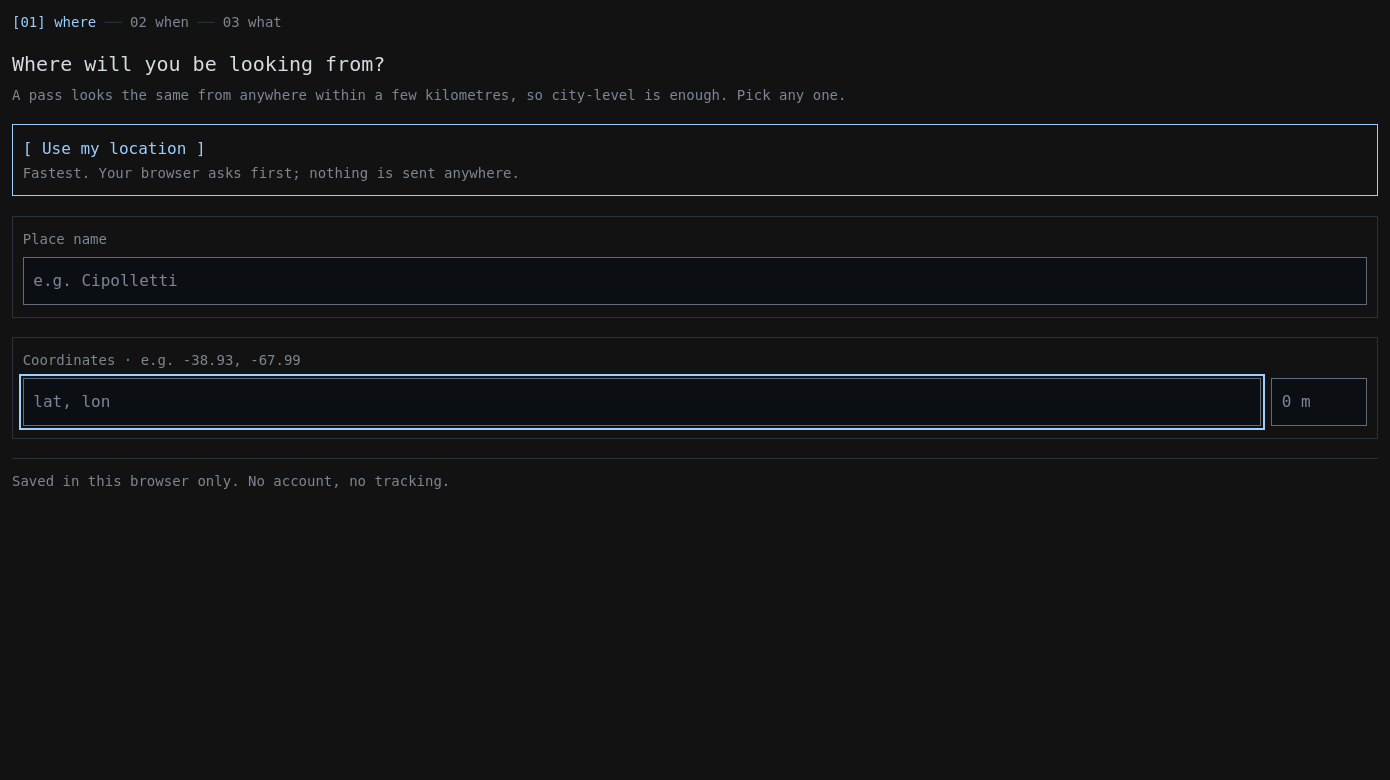
it: the phone’s first visit (FR-FIRST-4, D-513) › offers [ continue ] exactly while a typed pair is held, and it moves the step on
Expected: the button "continue" is not shown
Type "-38.93, -" into the field labelled "Coordinates · e.g. -38.93, -67.99" at (642, 402), box [23,378,1261,426]
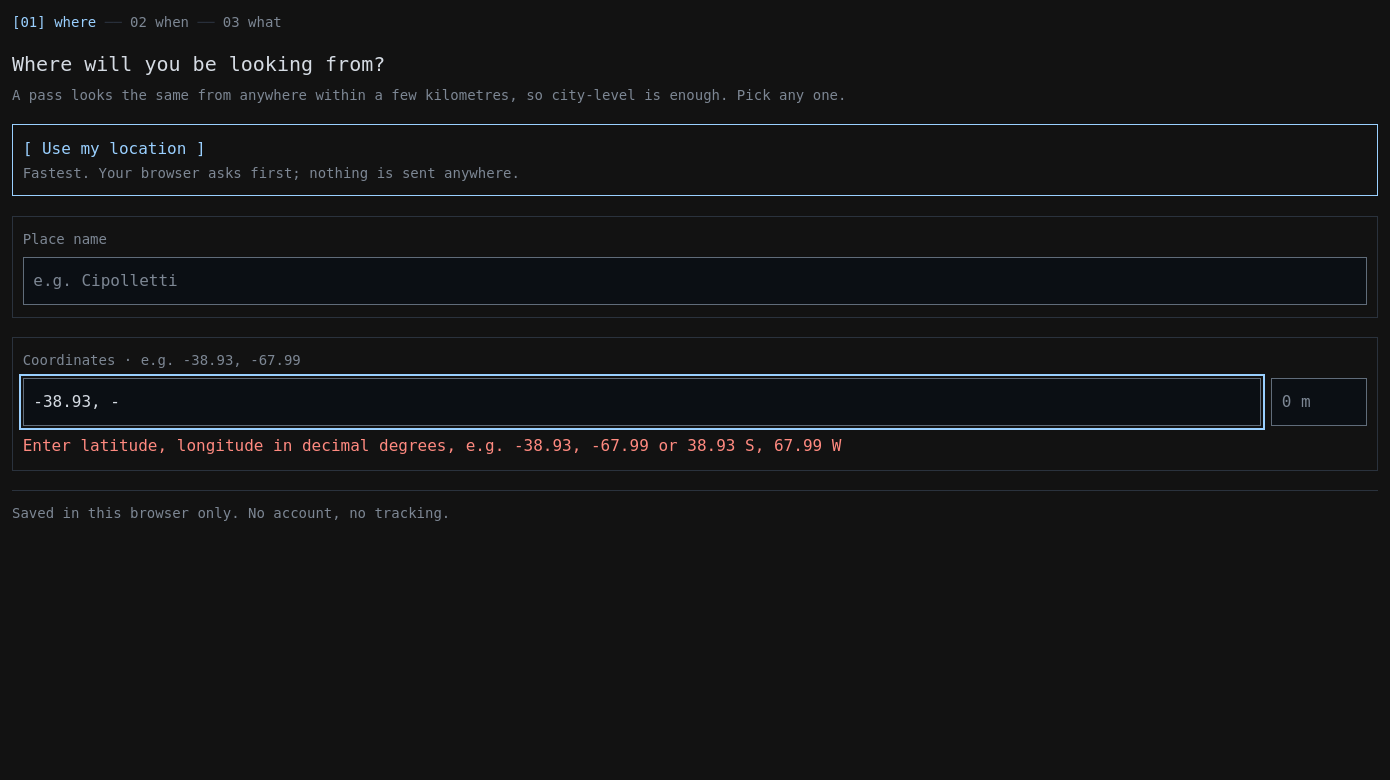
Expected: the button "continue" is not shown
Replace the text in the field labelled "Coordinates · e.g. -38.93, -67.99" with "-38.93, -67.99" at (642, 402), box [23,378,1261,426]
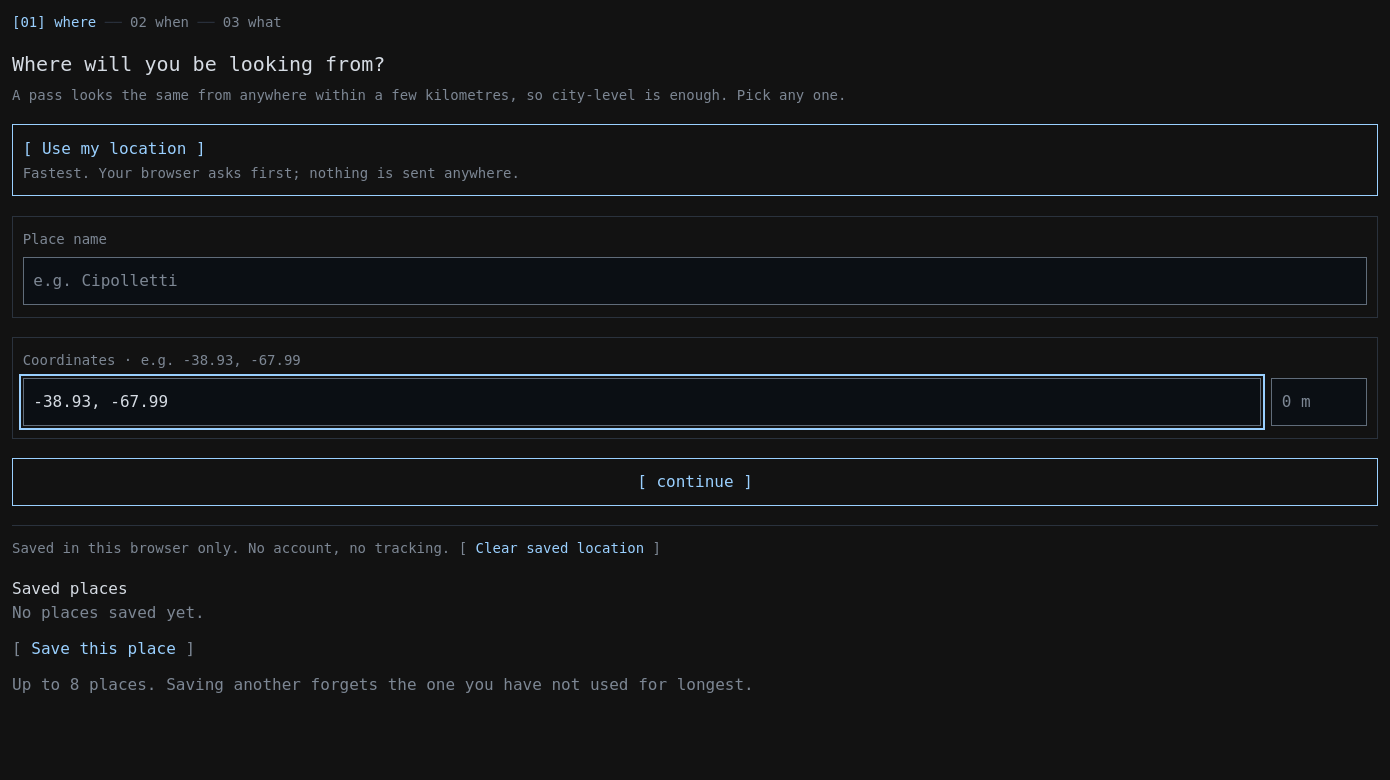
Now the button "continue" is shown, box [12,458,1378,506]
# An invalid pair drops the observer, and the control with it.
Replace the text in the field labelled "Coordinates · e.g. -38.93, -67.99" with "-38.93, -6x" at (642, 402), box [23,378,1261,426]
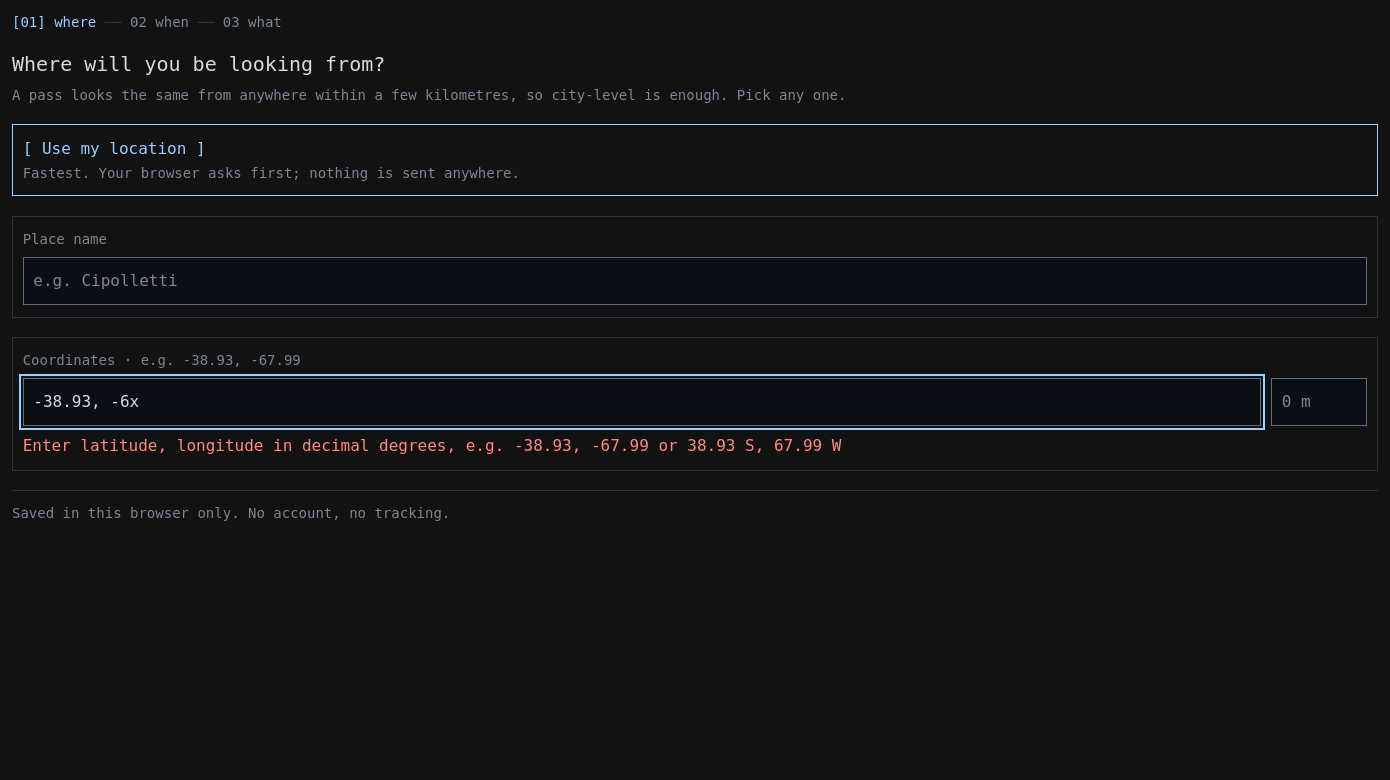
Now the button "continue" is gone
Replace the text in the field labelled "Coordinates · e.g. -38.93, -67.99" with "-38.93, -67.99" at (642, 402), box [23,378,1261,426]
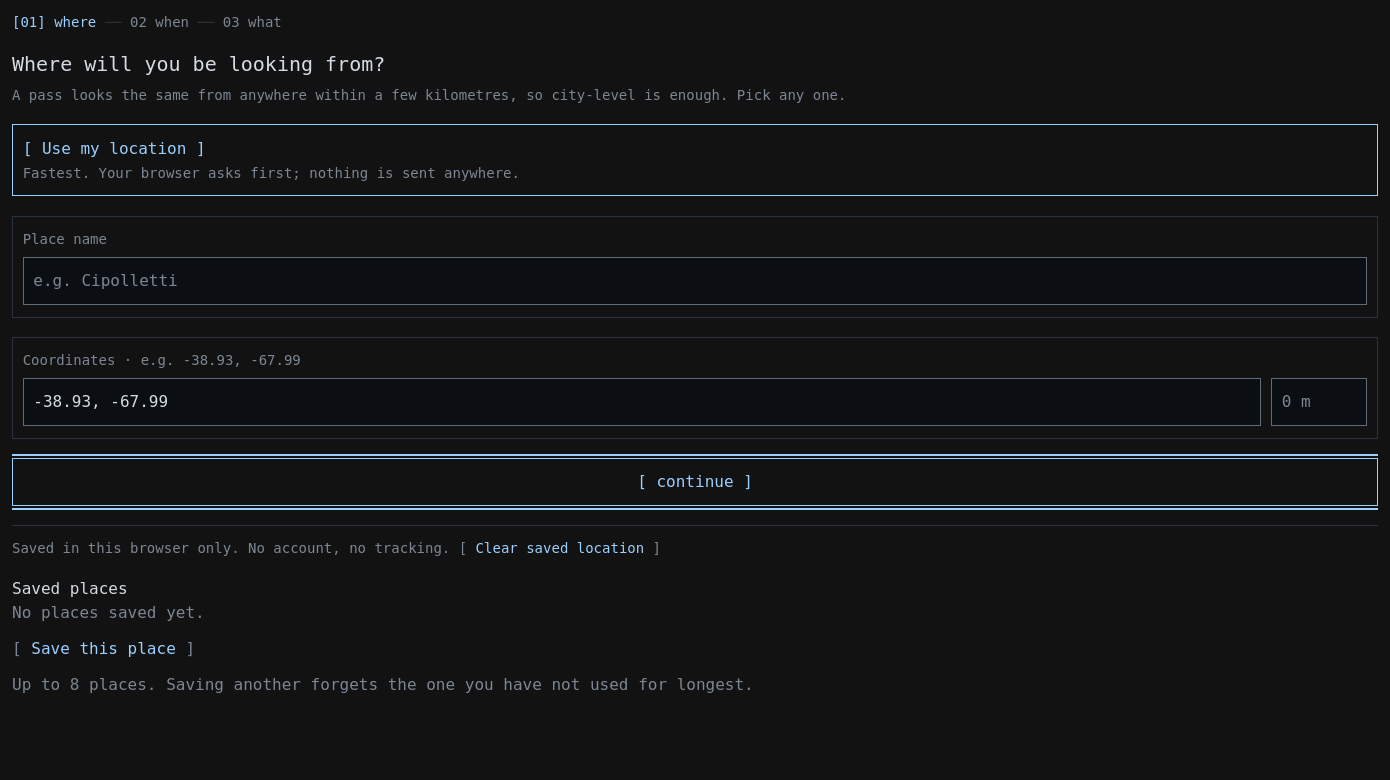
Now the button "continue" is shown
Click the button "continue" at (695, 482), box [12,458,1378,506]
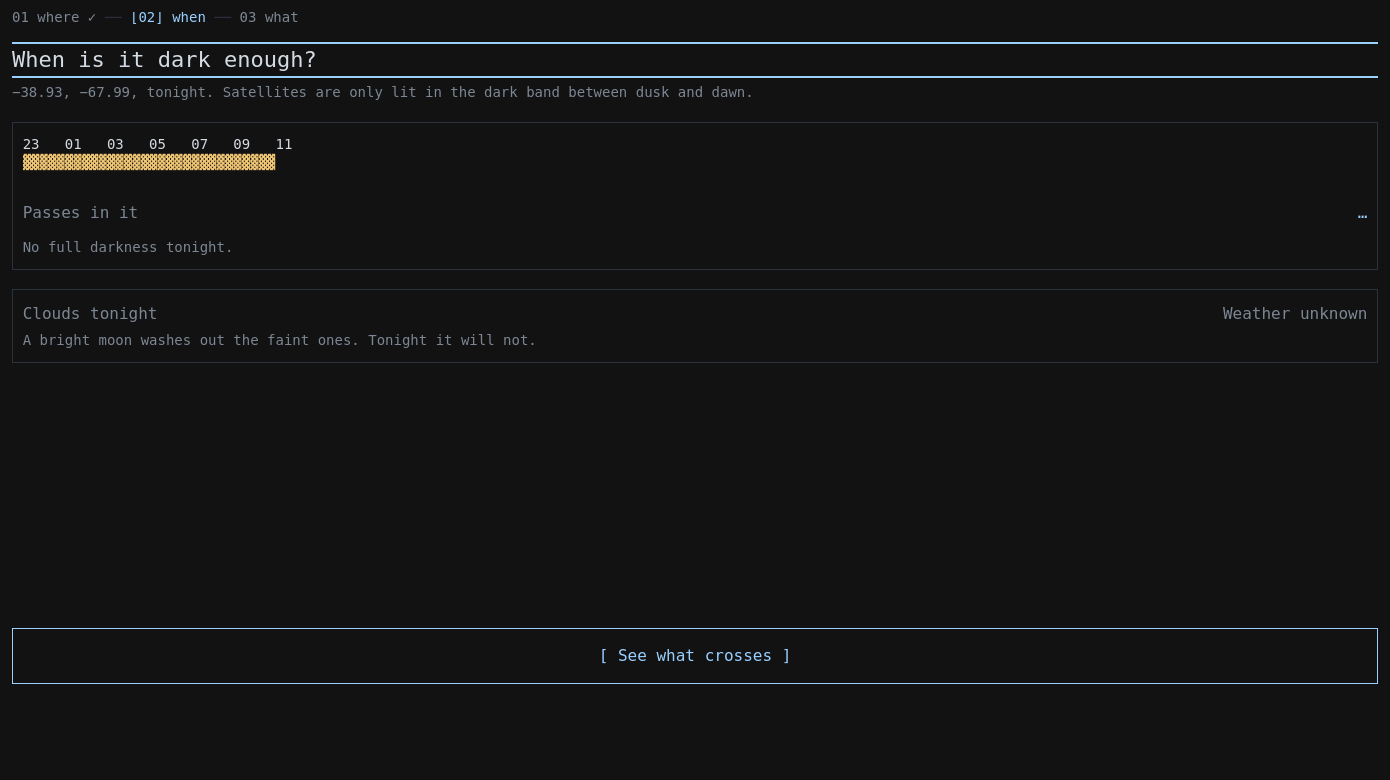
Now the element with test id "step-when" is shown
